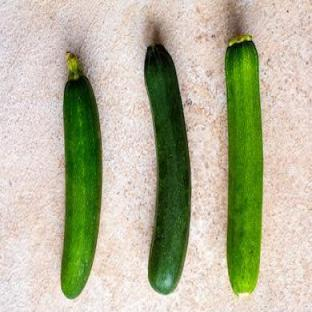Zucchini: (145, 45, 191, 293), (61, 53, 102, 297), (226, 35, 263, 293)
